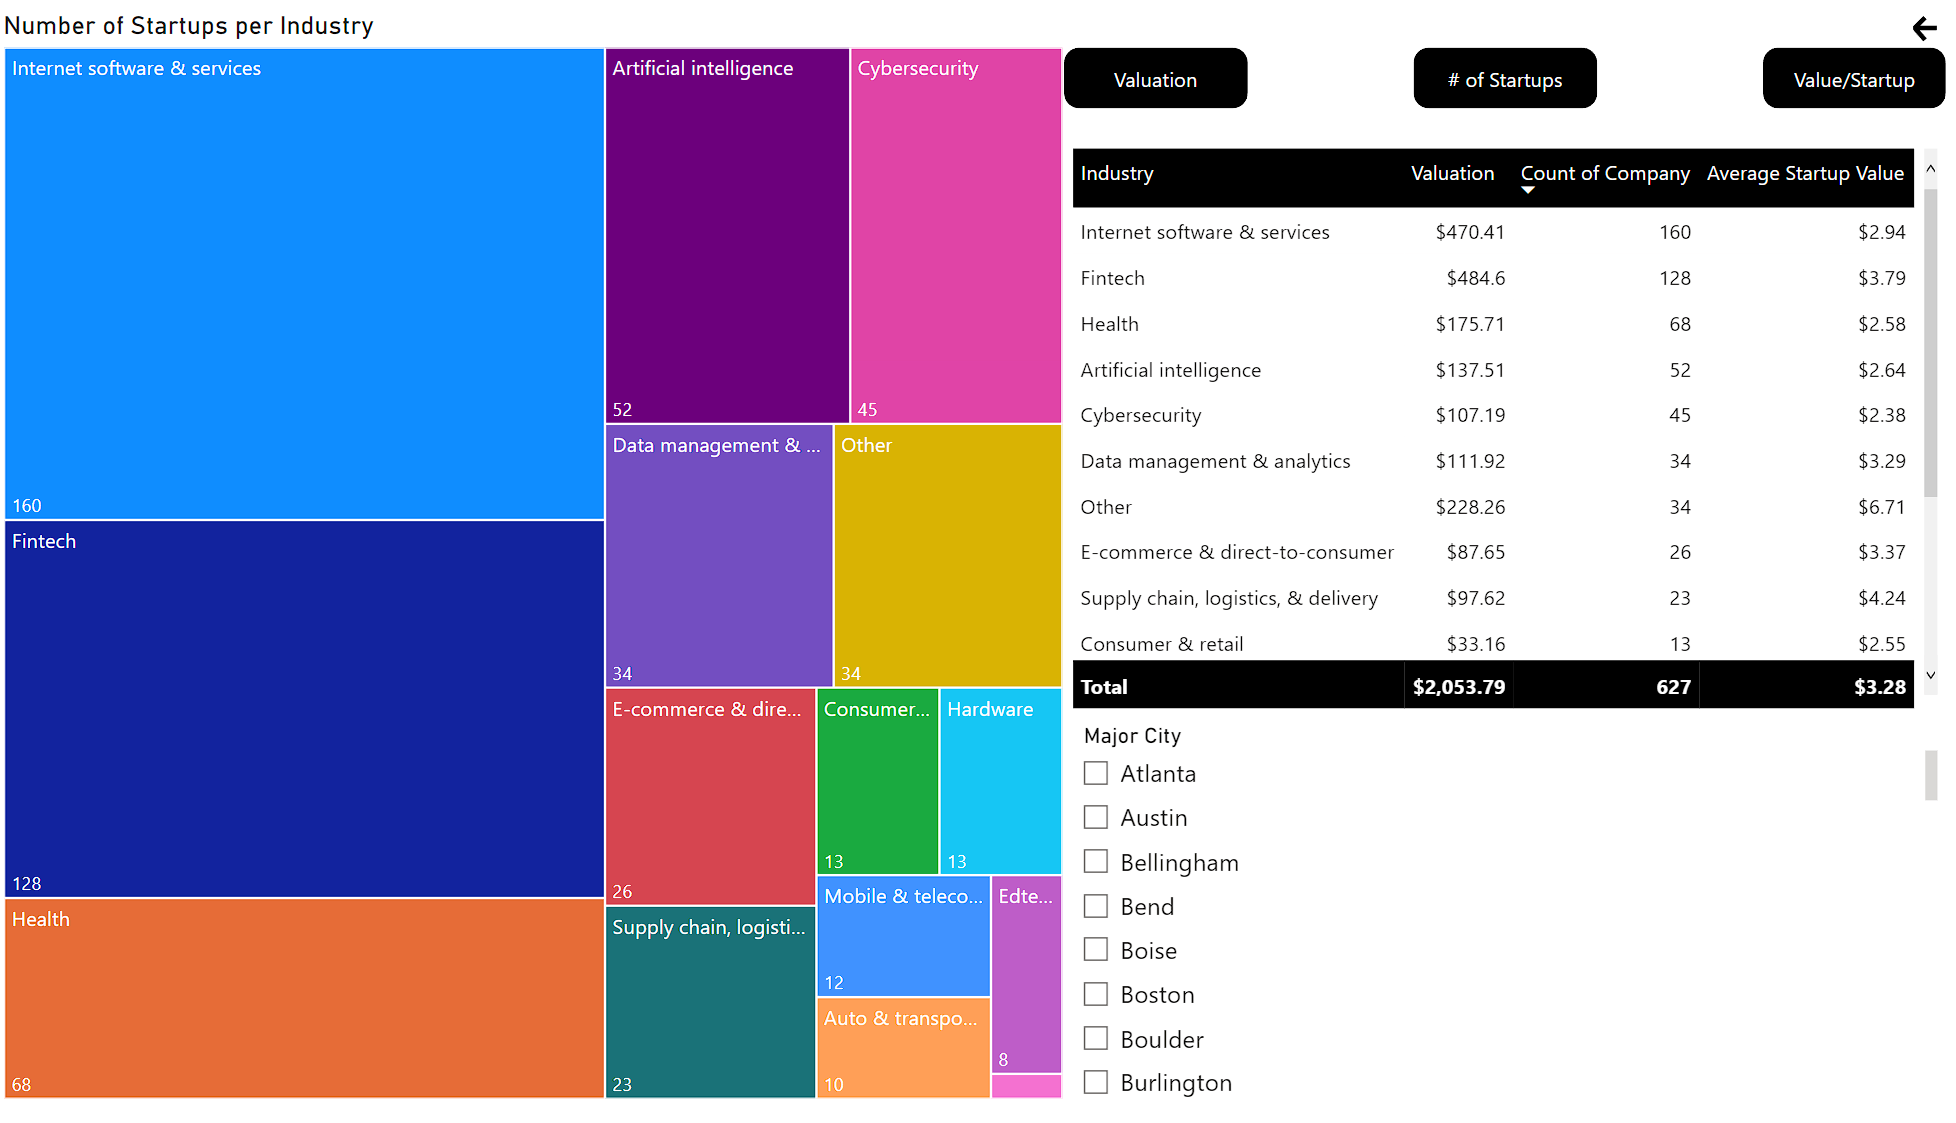

Layout of this report page (visuals, bound fields, positions):
{"tool":"powerbi","page":{"name":"Industries","canvas":[1280,720],"ordinal":3},"visuals":[{"type":"treemap","title":"Number of Startups per Industry","fields":{"Group":["Startups.Industry","Startups.Company"],"Values":["CountNonNull(Startups.Company)"]},"box":[0,0,705.1,719.8],"z":0},{"type":"tableEx","fields":{"Values":["Startups.Industry","Sum(Startups.Valuation)","Startups.Company","Major Cities Lookup.Average Startup Value"]},"box":[701.5,85.3,578.5,377.6],"z":1000},{"type":"slicer","fields":{"Values":["Major Cities Lookup.Major City"]},"box":[701.5,462.9,578.5,256.5],"z":4000},{"type":"actionButton","box":[701.5,24.7,120.5,40.2],"z":5000},{"type":"actionButton","box":[930.1,24.7,120.5,40.2],"z":6000},{"type":"actionButton","box":[1159.8,24.7,120.2,40.1],"z":7000},{"type":"actionButton","box":[1254.6,0,25.3,24.7],"z":8000}]}

Visuals, with their boxes in screenshot pixels (x1, y1, x2, y2), scaled from the page's 1280x720 canvas onto the 1956x1123 screenshot:
"Number of Startups per Industry" treemap: Rect(0, 0, 1077, 1122)
tableEx - Startups.Industry x Sum(Startups.Valuation): Rect(1072, 133, 1955, 722)
slicer - Major Cities Lookup.Major City: Rect(1072, 722, 1955, 1122)
actionButton: Rect(1072, 39, 1256, 101)
actionButton: Rect(1421, 39, 1605, 101)
actionButton: Rect(1772, 39, 1955, 101)
actionButton: Rect(1917, 0, 1955, 39)
